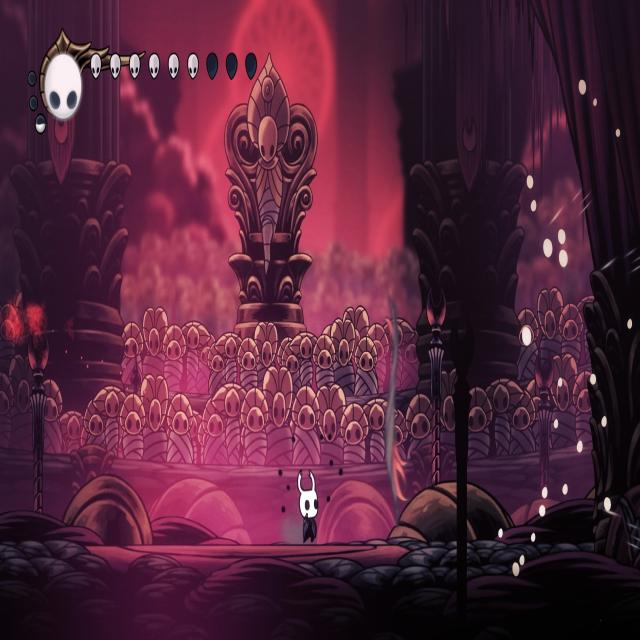Player: (297, 463, 322, 547)
